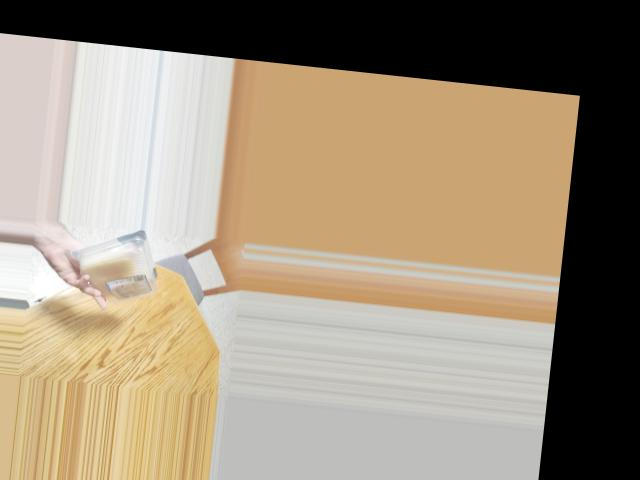cheese: (75, 229, 161, 305)
